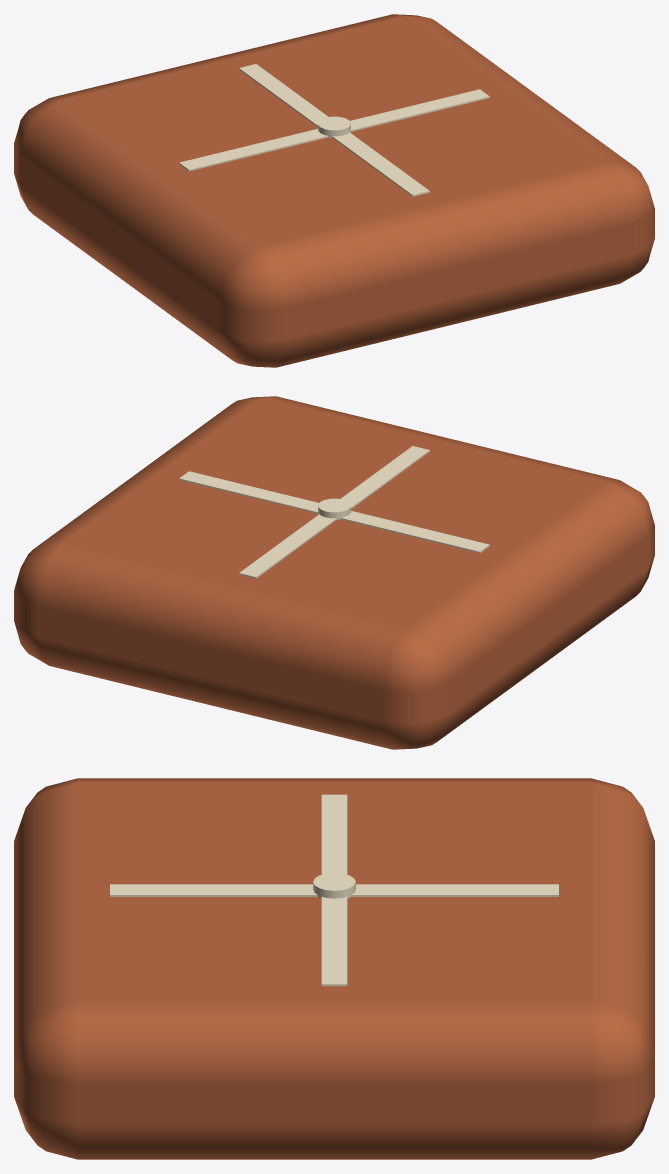
3 views of the same model, one above another, from view 1: azimuth 30°, elevation 25°; view 2: azimuth 150°, elevation 25°; view 3: azimuth 270°, elevation 25° (orthographic). The views are drawn at different scales.
Visible parts, largest first — view 1: cushion, stitch-x; view 2: cushion, stitch-x; view 3: cushion, stitch-x.
Boxes of the visible parts, x1,y1,x2,y2 form: cushion: (14, 14, 654, 367); stitch-x: (179, 64, 489, 196); cushion: (14, 396, 654, 749); stitch-x: (179, 446, 489, 578); cushion: (14, 778, 654, 1159); stitch-x: (110, 794, 558, 986).
Size of the model in its own units: 0.6 by 0.17 by 0.6.
